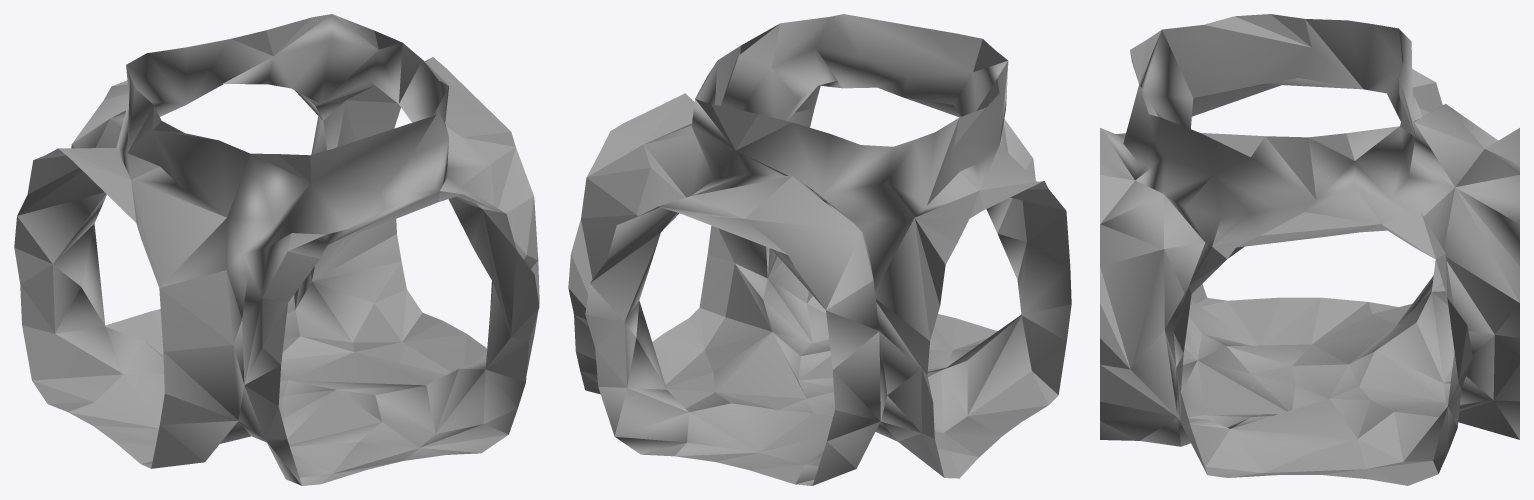
File: 5NoDownConnector.fbx
3 views of the same model, side by side, from view 1: azimuth 30°, elevation 25°; view 2: azimuth 150°, elevation 25°; view 3: azimuth 270°, elevation 25° (orthographic). The views are drawn at different scales.
Visible parts, largest first — view 1: 5NoDownConnector; view 2: 5NoDownConnector; view 3: 5NoDownConnector.
Boxes of the visible parts, x1,y1,x2,y2 form: 5NoDownConnector: [14, 14, 539, 485]; 5NoDownConnector: [568, 14, 1071, 485]; 5NoDownConnector: [1100, 14, 1519, 485].
Bounding box in the file's own units: 500 × 427 × 500.
